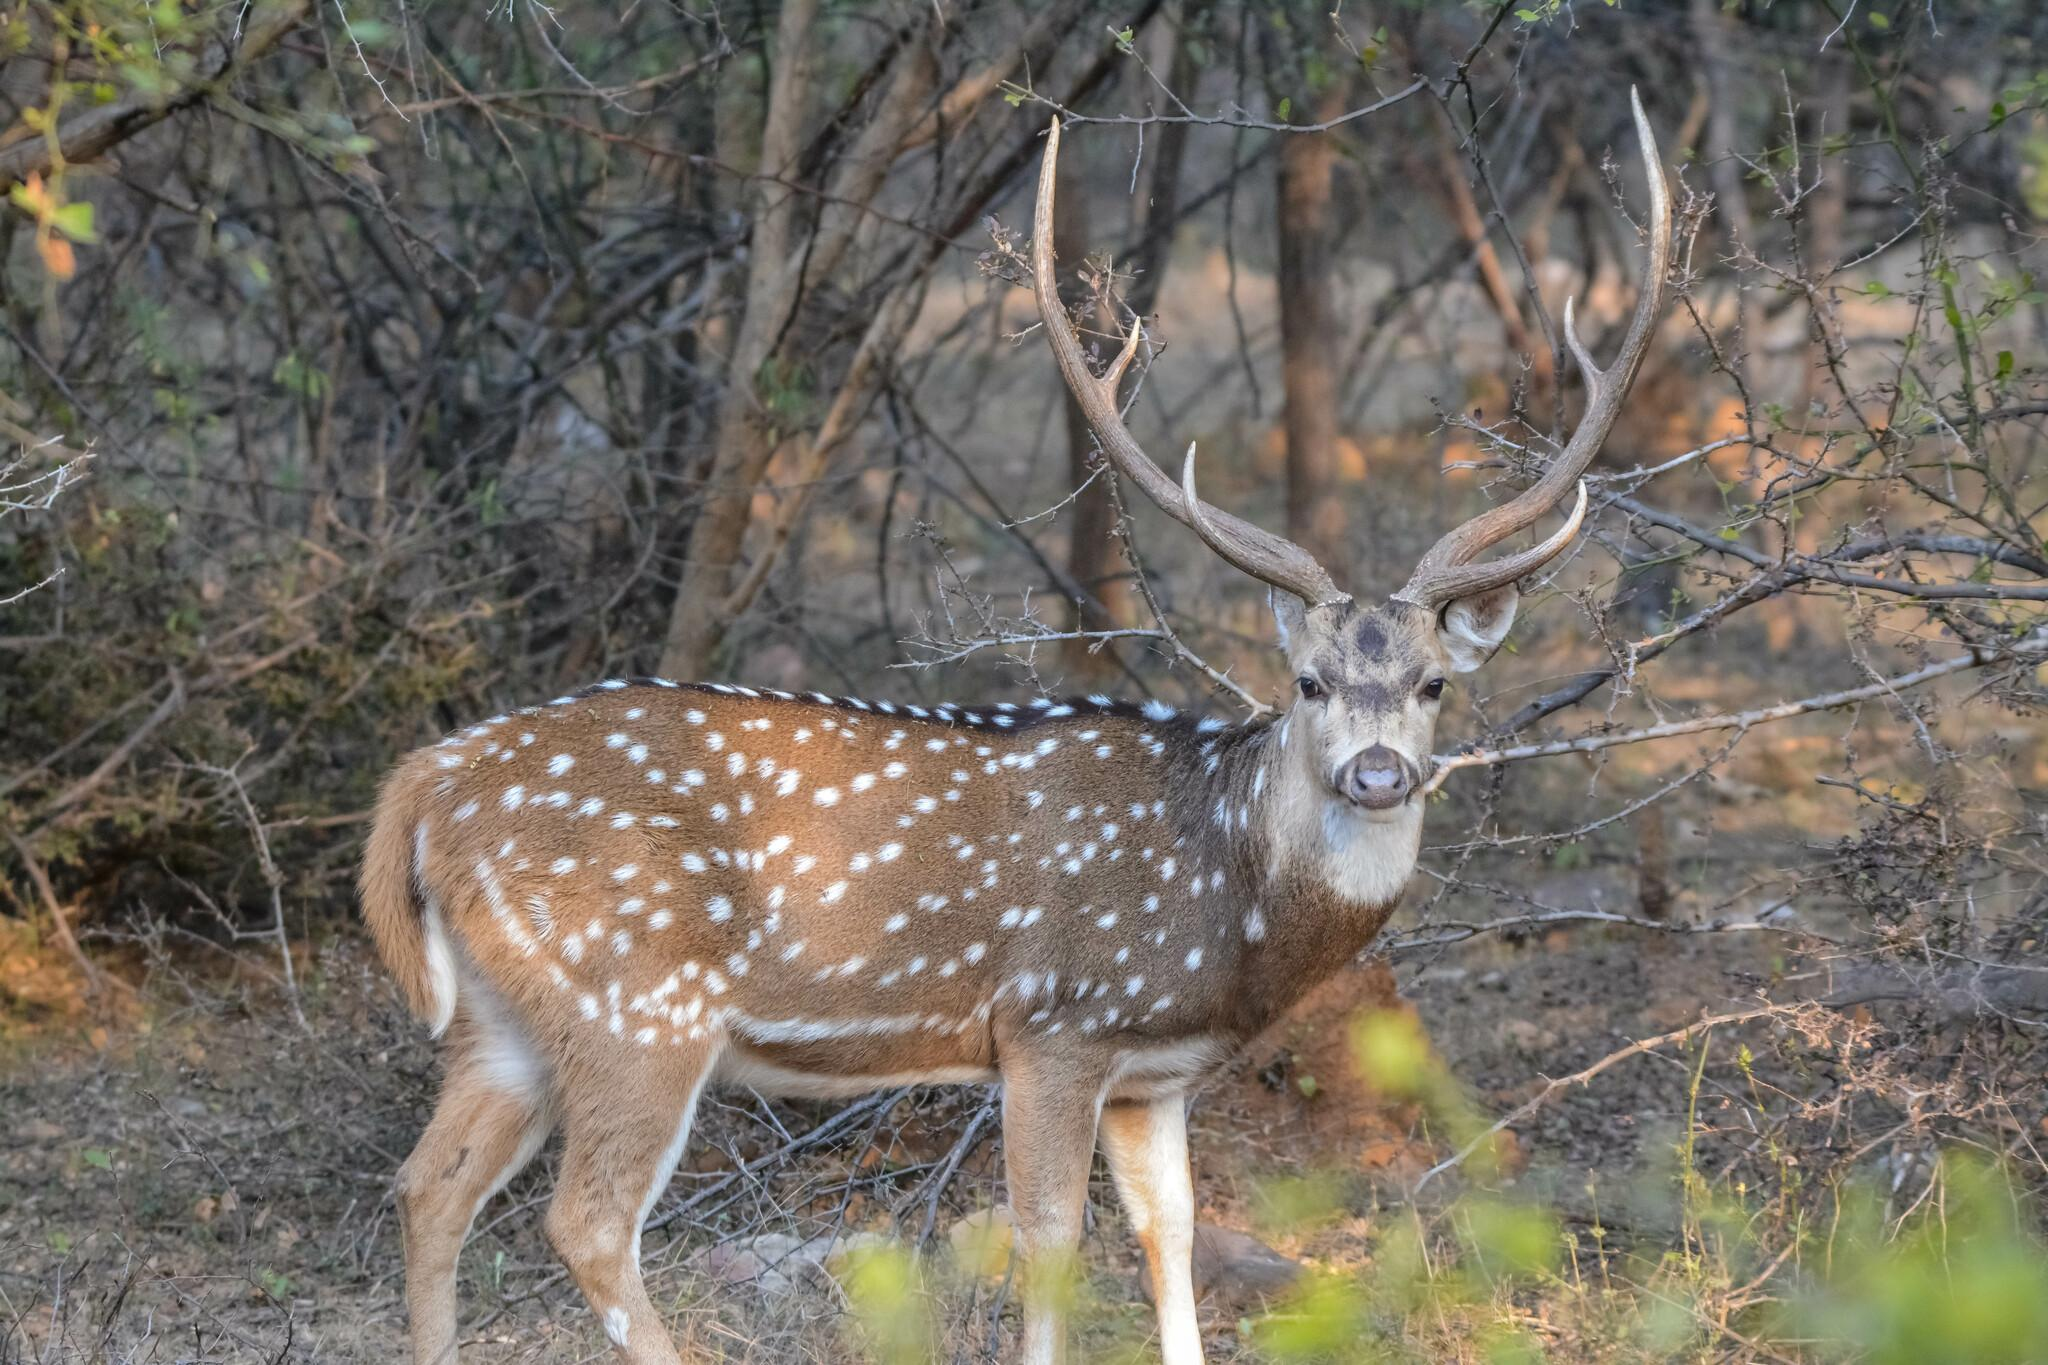Deer: (361, 93, 1669, 1363)
